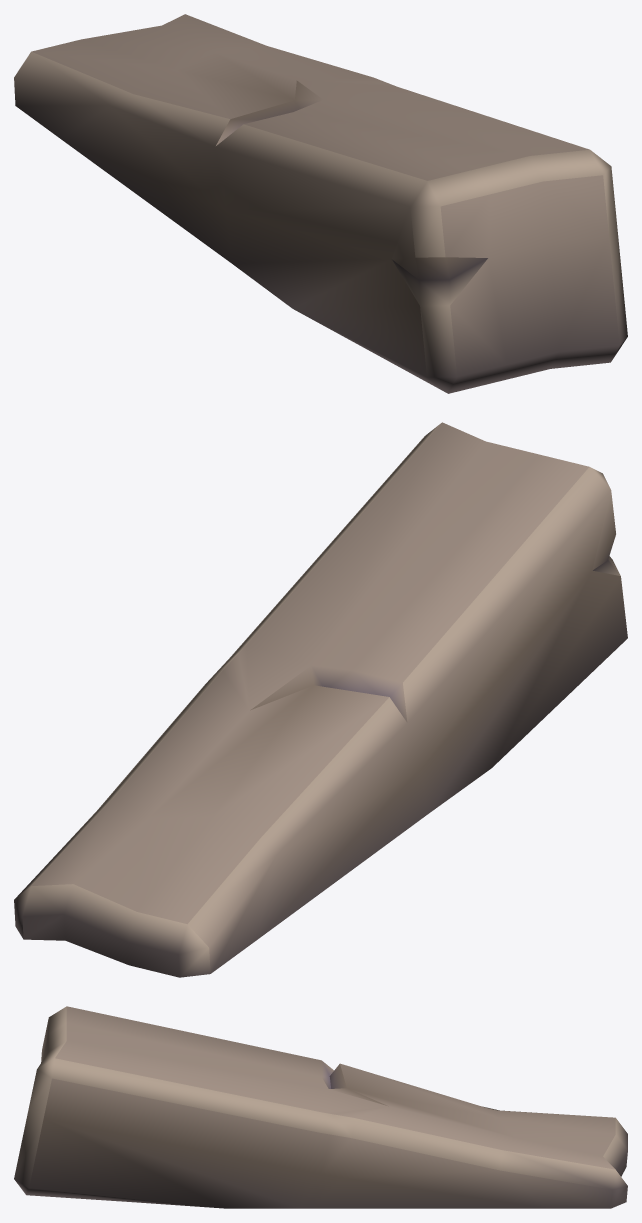
The picture shows the model from 3 angles, top to bottom: view 1: azimuth 30°, elevation 25°; view 2: azimuth 150°, elevation 25°; view 3: azimuth 270°, elevation 25°; orthographic projection. The views are drawn at different scales.
Visible parts, largest first — view 1: base148; view 2: base148; view 3: base148.
Part boxes in pixels (x1,y1,x2,y2): base148: (14,14,627,393); base148: (14,422,627,977); base148: (14,1006,627,1208).
Bounding box in the file's own units: 0.1253 × 0.1293 × 0.5.
